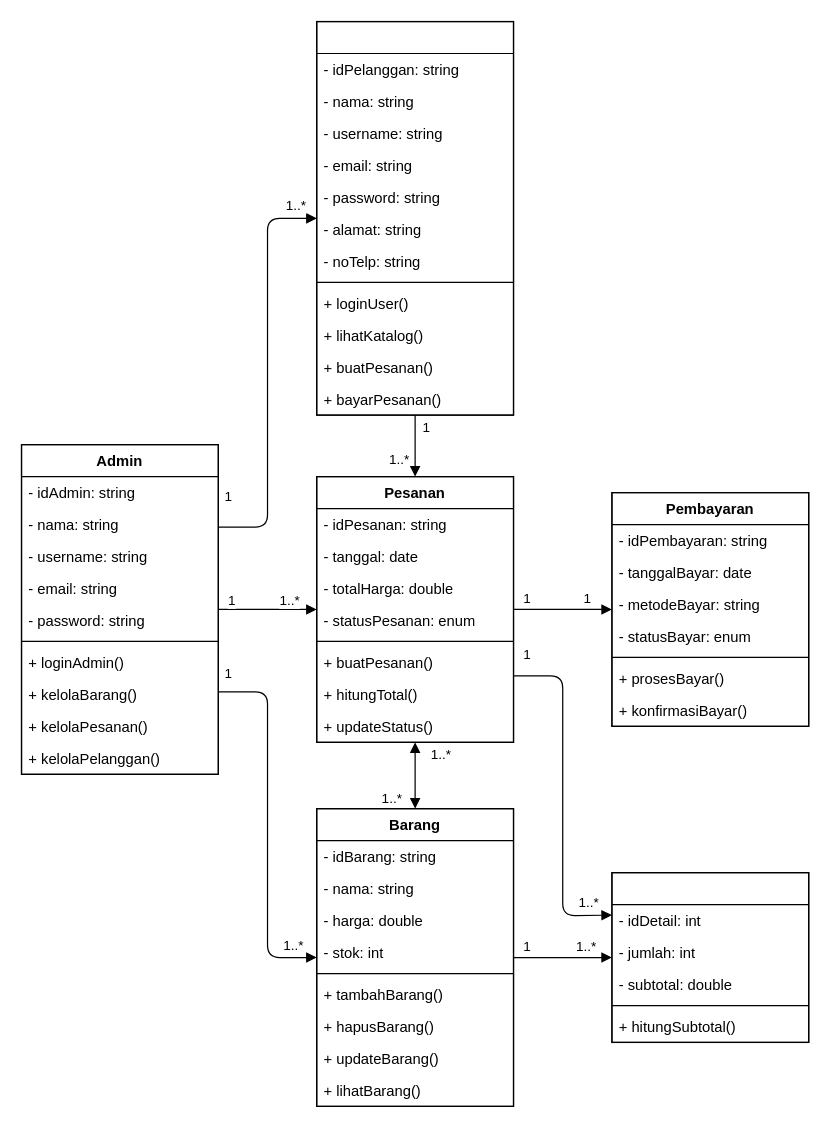
Some shapes in this 830 by 1132 pixel diagram are drawn without their labels. Here are the shapes that lost their labels. From the top down, the centre of each, then its label:
At (414,217): "Pelanggan".
At (710,956): "DetailPesanan".
